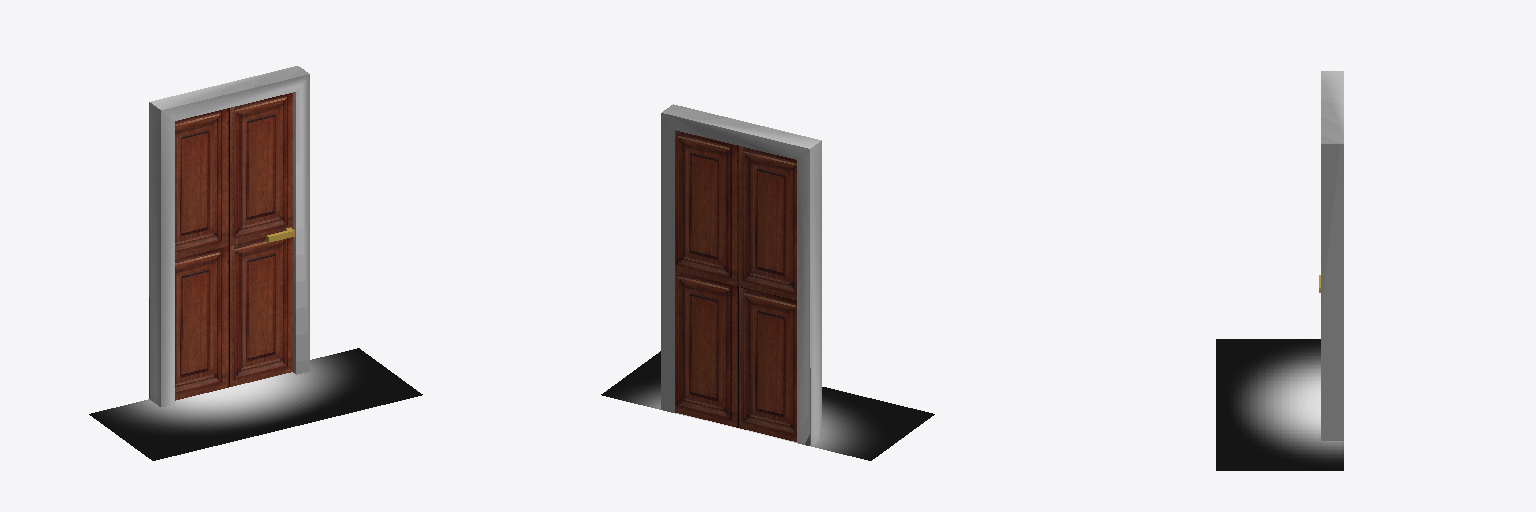
3 views of the same model, side by side, from view 1: azimuth 30°, elevation 25°; view 2: azimuth 150°, elevation 25°; view 3: azimuth 270°, elevation 25° (orthographic).
Visible parts, largest first — view 1: Door, Frame; view 2: Door, Frame; view 3: Frame.
Boxes of the visible parts, x1,y1,x2,y2 form: Door: [175, 93, 294, 400]; Frame: [89, 66, 422, 460]; Door: [675, 130, 796, 441]; Frame: [601, 104, 934, 460]; Frame: [1216, 71, 1343, 470].
Bounding box in the file's own units: 2 × 2.1 × 0.825.
Materials: 2 (1 with a texture image).